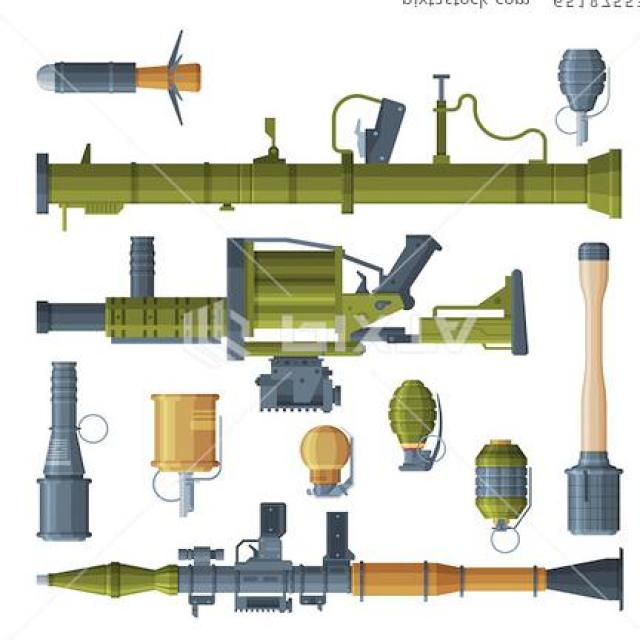grenade: (473, 441, 533, 556), (555, 46, 613, 149), (388, 381, 446, 475), (299, 425, 357, 502)
